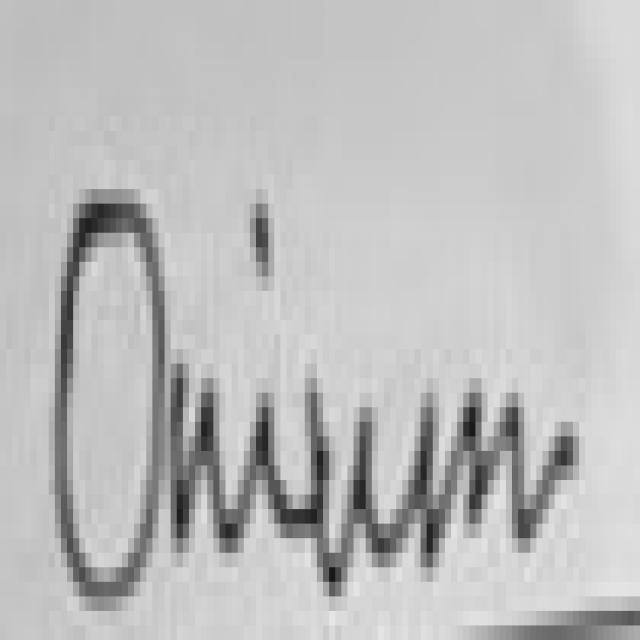O: (61, 204, 165, 596)
c: (307, 408, 362, 590)
i: (235, 388, 308, 541), (254, 206, 268, 263)
m: (446, 381, 580, 549), (171, 378, 244, 553)
u: (358, 381, 447, 565)
